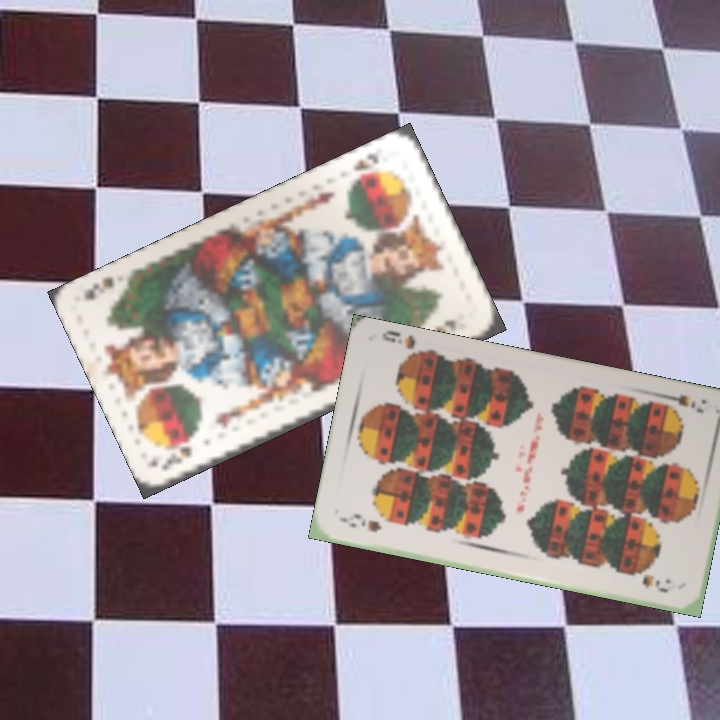S9: (656, 389, 707, 416), (337, 511, 384, 535)
SK: (346, 149, 382, 188), (156, 441, 195, 473)
